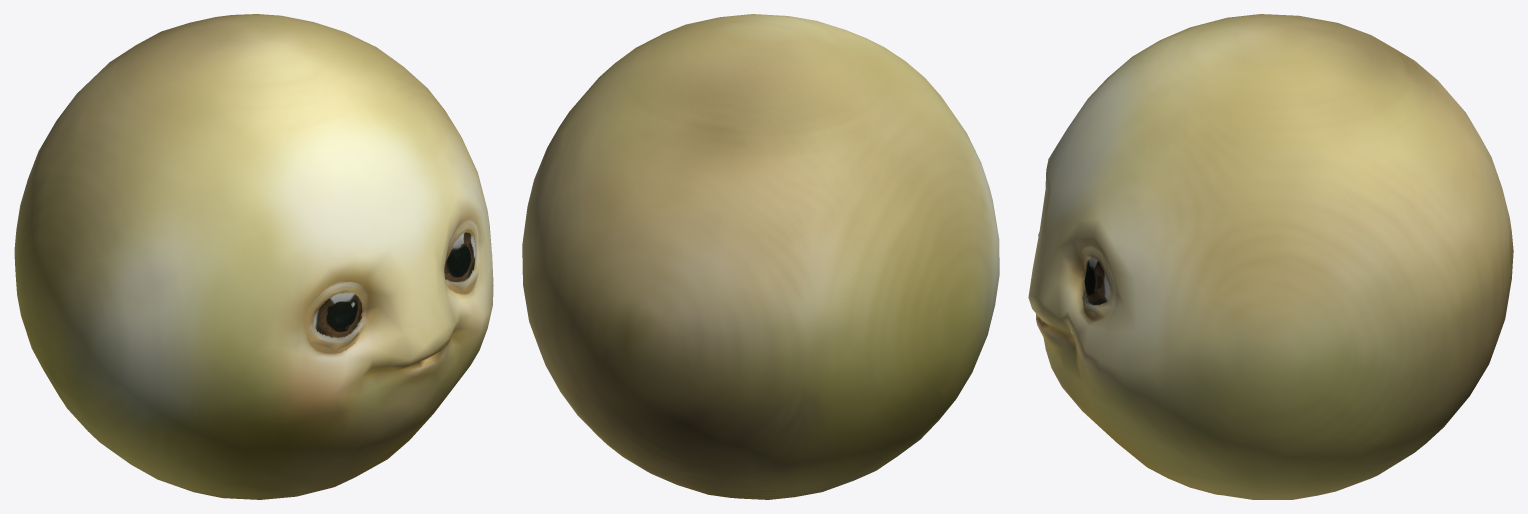
Rendered from shulker_head_single_1500.glb.
3 views of the same model, side by side, from view 1: azimuth 30°, elevation 25°; view 2: azimuth 150°, elevation 25°; view 3: azimuth 270°, elevation 25° (orthographic).
Size of the model in its own units: 0.8558 by 0.8766 by 0.87.
1 material, 1 textured.
